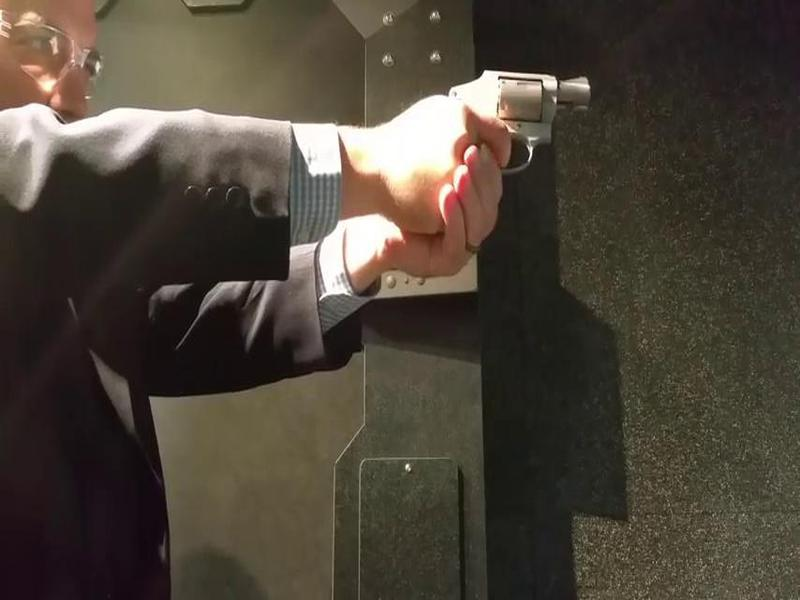Revolver: (423, 47, 598, 209)
